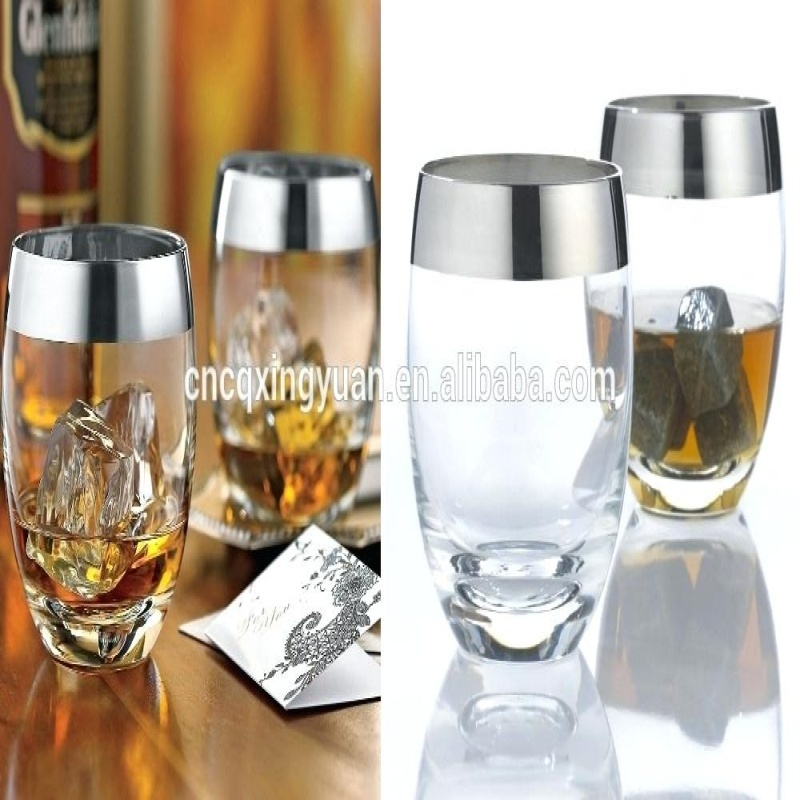whiskey: (1, 225, 198, 671), (593, 97, 780, 522)
